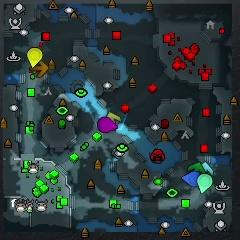p1: (182, 171, 201, 187)
p2: (198, 173, 213, 193)
p3: (97, 117, 117, 133)
p4: (26, 47, 43, 67)
x2: (107, 112, 121, 124)
x3: (201, 161, 212, 173)
x4: (189, 162, 205, 174)
x5: (30, 60, 48, 76)
